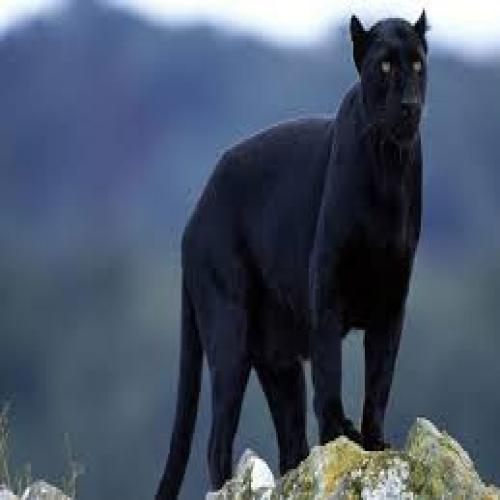panther-endangered: (160, 8, 428, 454)
